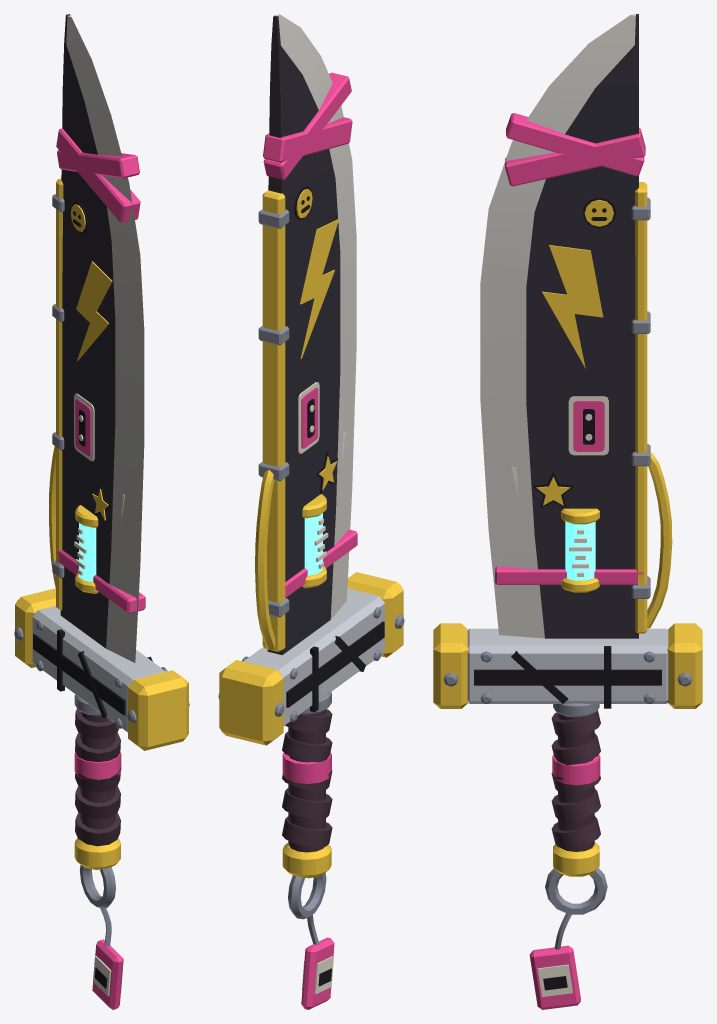
The model's file is splice_blade.glb.
3 renders of one model, left to right at view 1: azimuth 30°, elevation 25°; view 2: azimuth 150°, elevation 25°; view 3: azimuth 270°, elevation 25°, orthographic. The views are drawn at different scales.
Visible parts, largest first — view 1: Weapon; view 2: Weapon; view 3: Weapon.
Boxes of the visible parts, x1=… form: Weapon: x1=14, y1=14, x2=189, y2=1009; Weapon: x1=218, y1=14, x2=404, y2=1009; Weapon: x1=433, y1=14, x2=702, y2=1009.
Size of the model in its own units: 0.0664 by 1.05 by 0.258.
